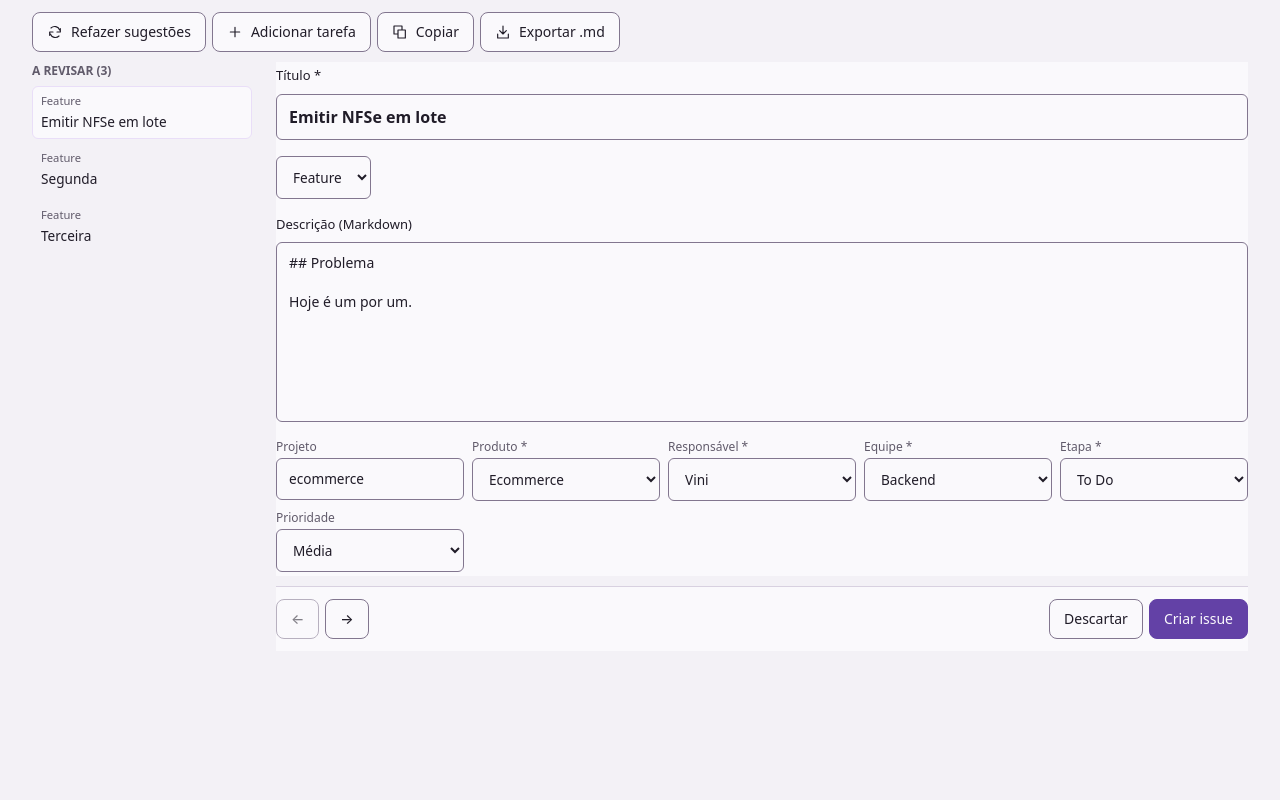
Test: TasksTab › Criar issue envia só o item aberto, com os campos da tela, e abre o próximo pendente
edição ainda não salva no servidor: o pedido leva o que está na tela
Replace the text in the field named "Título" with "Título novo": x=762, y=116 [276, 94, 1248, 140]
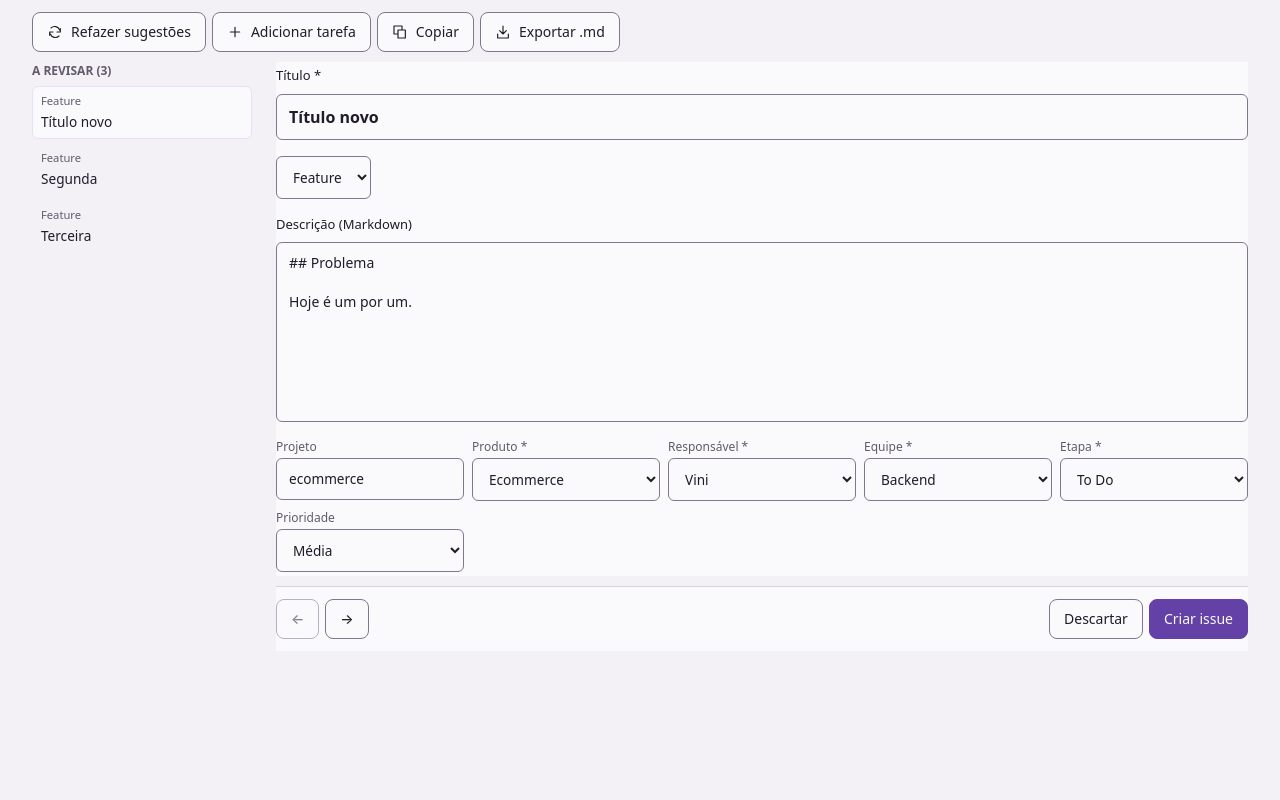
Click the button "Criar issue": x=1198, y=619 [1149, 599, 1248, 639]
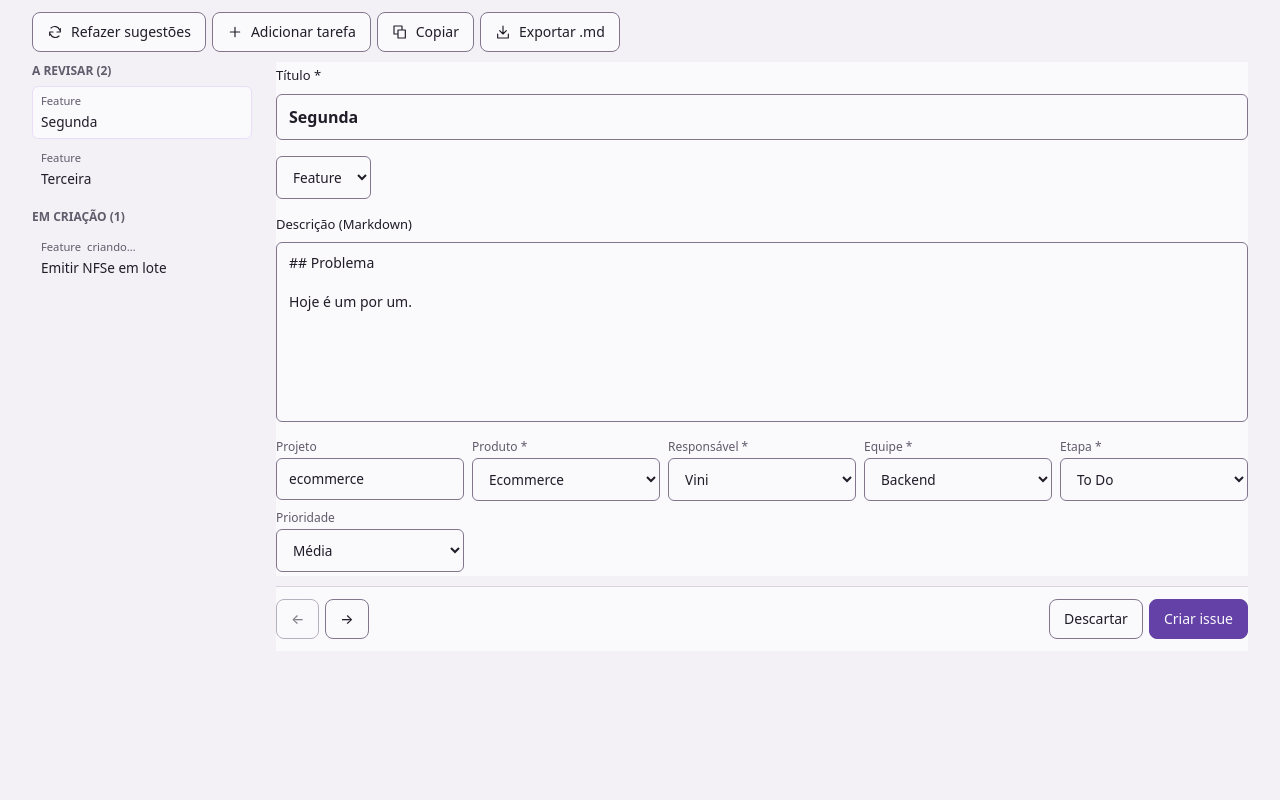
Expected: the text "A revisar (2)" is shown, [32, 62, 112, 79]
